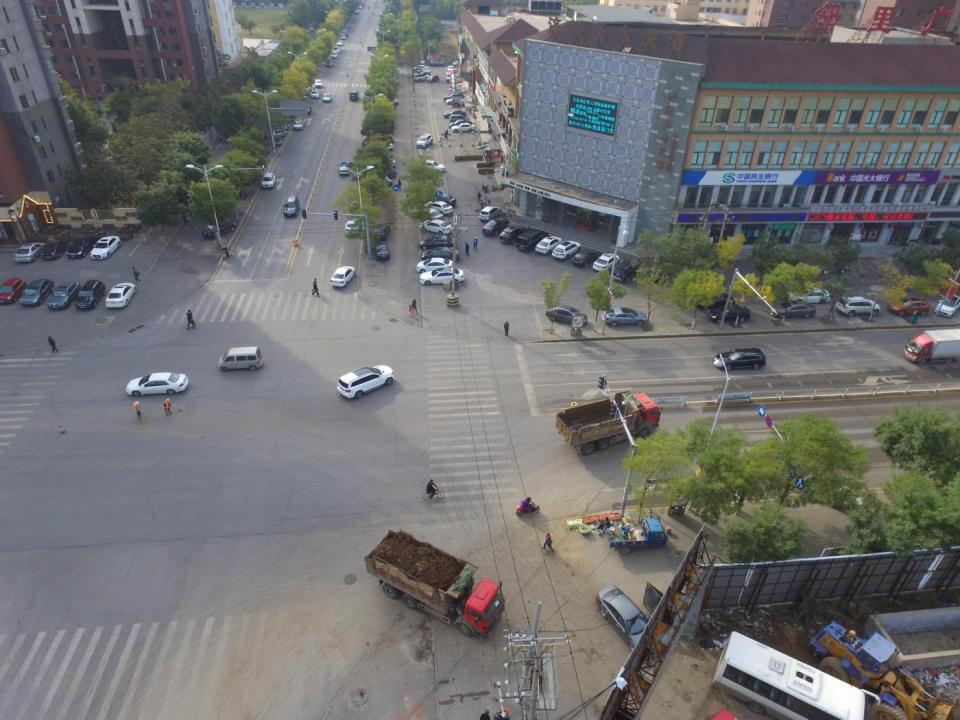bus: (712, 631, 878, 720)
car: (595, 586, 652, 654), (336, 364, 394, 399), (126, 372, 189, 396), (712, 347, 768, 373), (543, 305, 588, 328), (766, 298, 817, 317), (834, 296, 881, 316), (709, 304, 750, 326), (104, 282, 137, 308), (605, 308, 649, 326), (788, 287, 832, 305), (77, 278, 103, 308), (50, 283, 80, 309), (419, 269, 464, 286), (21, 280, 52, 304), (694, 292, 734, 310), (0, 276, 26, 303), (517, 228, 548, 250), (934, 292, 960, 318), (41, 236, 69, 260), (888, 298, 925, 316), (66, 236, 96, 258), (15, 241, 45, 263), (92, 237, 122, 258), (201, 221, 236, 239), (421, 248, 459, 264), (329, 266, 357, 287), (614, 260, 642, 280), (416, 258, 453, 273), (499, 224, 525, 244), (535, 237, 562, 255), (593, 254, 620, 272), (420, 236, 457, 249), (420, 220, 452, 235), (553, 240, 579, 258), (572, 250, 601, 266), (417, 207, 444, 223), (484, 218, 508, 235), (428, 193, 456, 207), (283, 195, 300, 218), (427, 199, 453, 214), (418, 160, 446, 173), (371, 242, 389, 262), (480, 205, 501, 222), (344, 218, 360, 236), (372, 224, 390, 240), (377, 136, 394, 151), (450, 123, 474, 133), (379, 165, 396, 179), (375, 174, 392, 188), (376, 153, 395, 165), (449, 120, 473, 129), (417, 133, 432, 147), (443, 93, 464, 103), (444, 109, 467, 118), (264, 134, 281, 146), (262, 172, 274, 188), (271, 122, 290, 132), (220, 134, 237, 144), (382, 96, 399, 106), (268, 130, 286, 139), (445, 97, 464, 105), (338, 163, 349, 176), (361, 135, 372, 147), (293, 120, 304, 130), (322, 92, 332, 103), (426, 75, 439, 82), (311, 89, 320, 99), (350, 90, 359, 100), (430, 60, 444, 66), (314, 80, 322, 88), (330, 52, 338, 59), (326, 60, 332, 68), (334, 46, 340, 54), (335, 40, 343, 46), (448, 66, 454, 74), (340, 33, 346, 40), (356, 9, 359, 14)
truck: (365, 532, 505, 638), (555, 390, 659, 456), (903, 328, 960, 366), (607, 519, 670, 553)
van: (217, 345, 265, 371), (449, 114, 470, 124), (446, 71, 454, 83)
